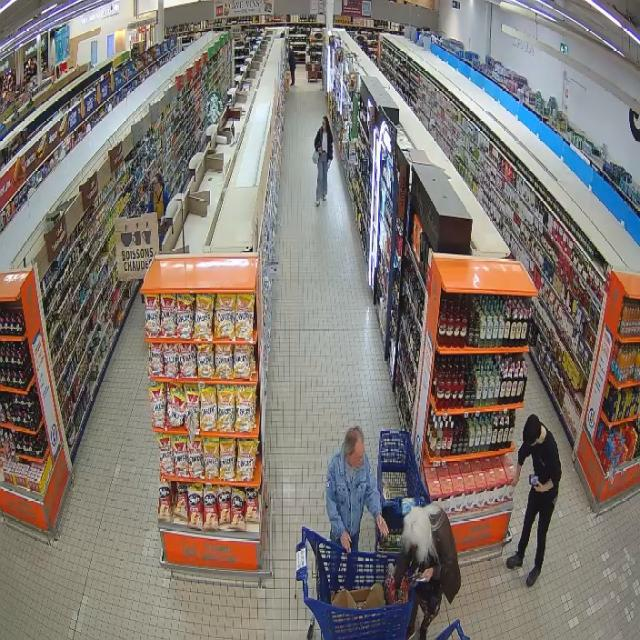article: (504, 465, 516, 501), (529, 474, 539, 485)
bags: (312, 150, 319, 164)
hands: (340, 530, 351, 553), (377, 515, 389, 536), (422, 568, 433, 582), (533, 483, 545, 493), (511, 476, 519, 488), (328, 159, 331, 169)
person: (507, 415, 561, 586), (395, 505, 460, 639), (326, 427, 388, 552), (315, 116, 332, 206), (148, 174, 169, 242), (148, 174, 169, 221)
